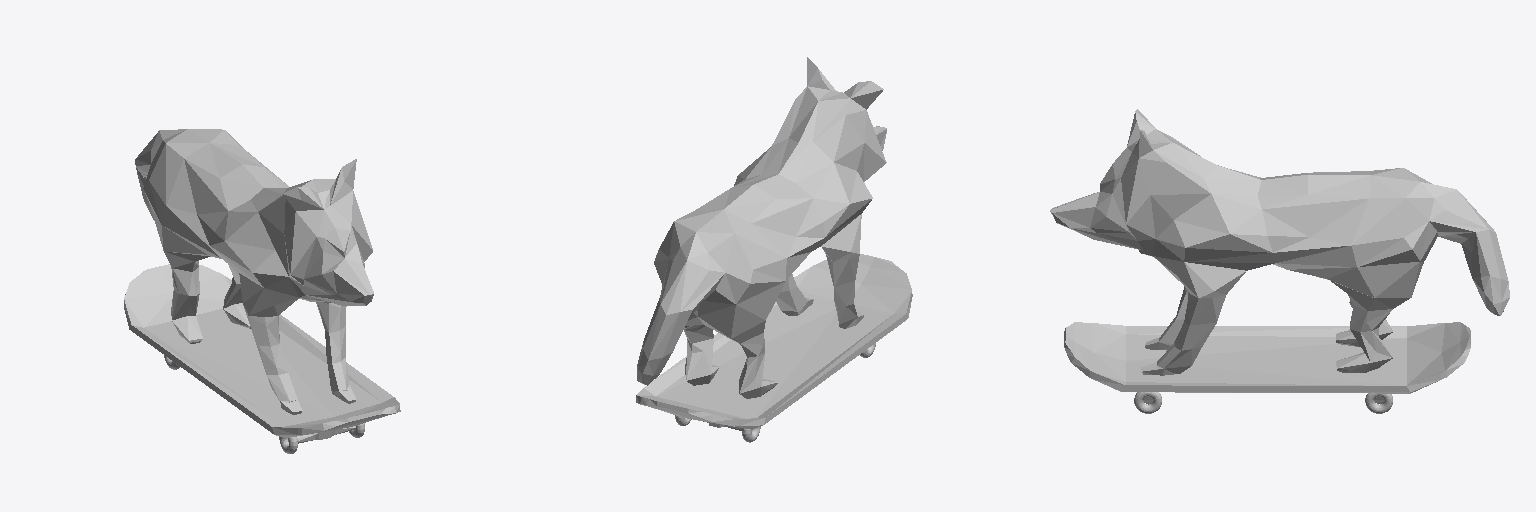
File: Fuchs12.obj
3 views of the same model, side by side, from view 1: azimuth 30°, elevation 25°; view 2: azimuth 150°, elevation 25°; view 3: azimuth 270°, elevation 25° (orthographic).
Size of the model in its own units: 3.58 by 7.89 by 11.66.